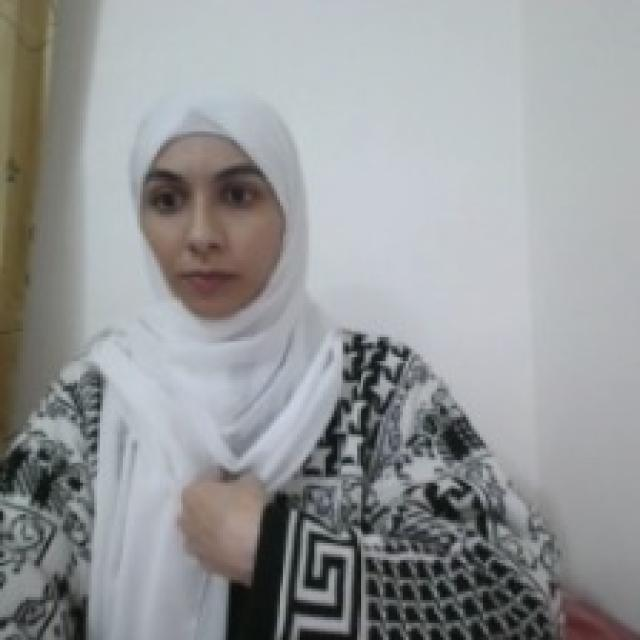me: (168, 460, 280, 588)
